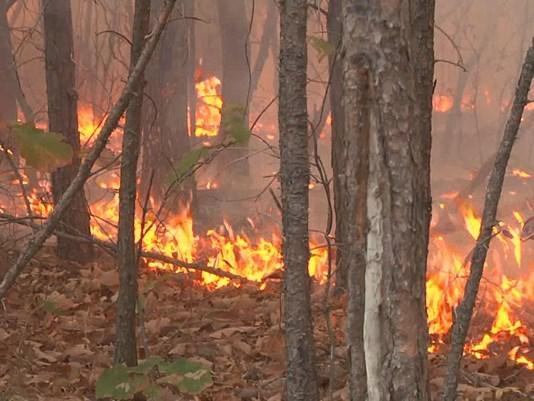fire: (0, 73, 312, 301), (427, 183, 534, 365), (191, 64, 224, 139), (307, 237, 333, 280)
